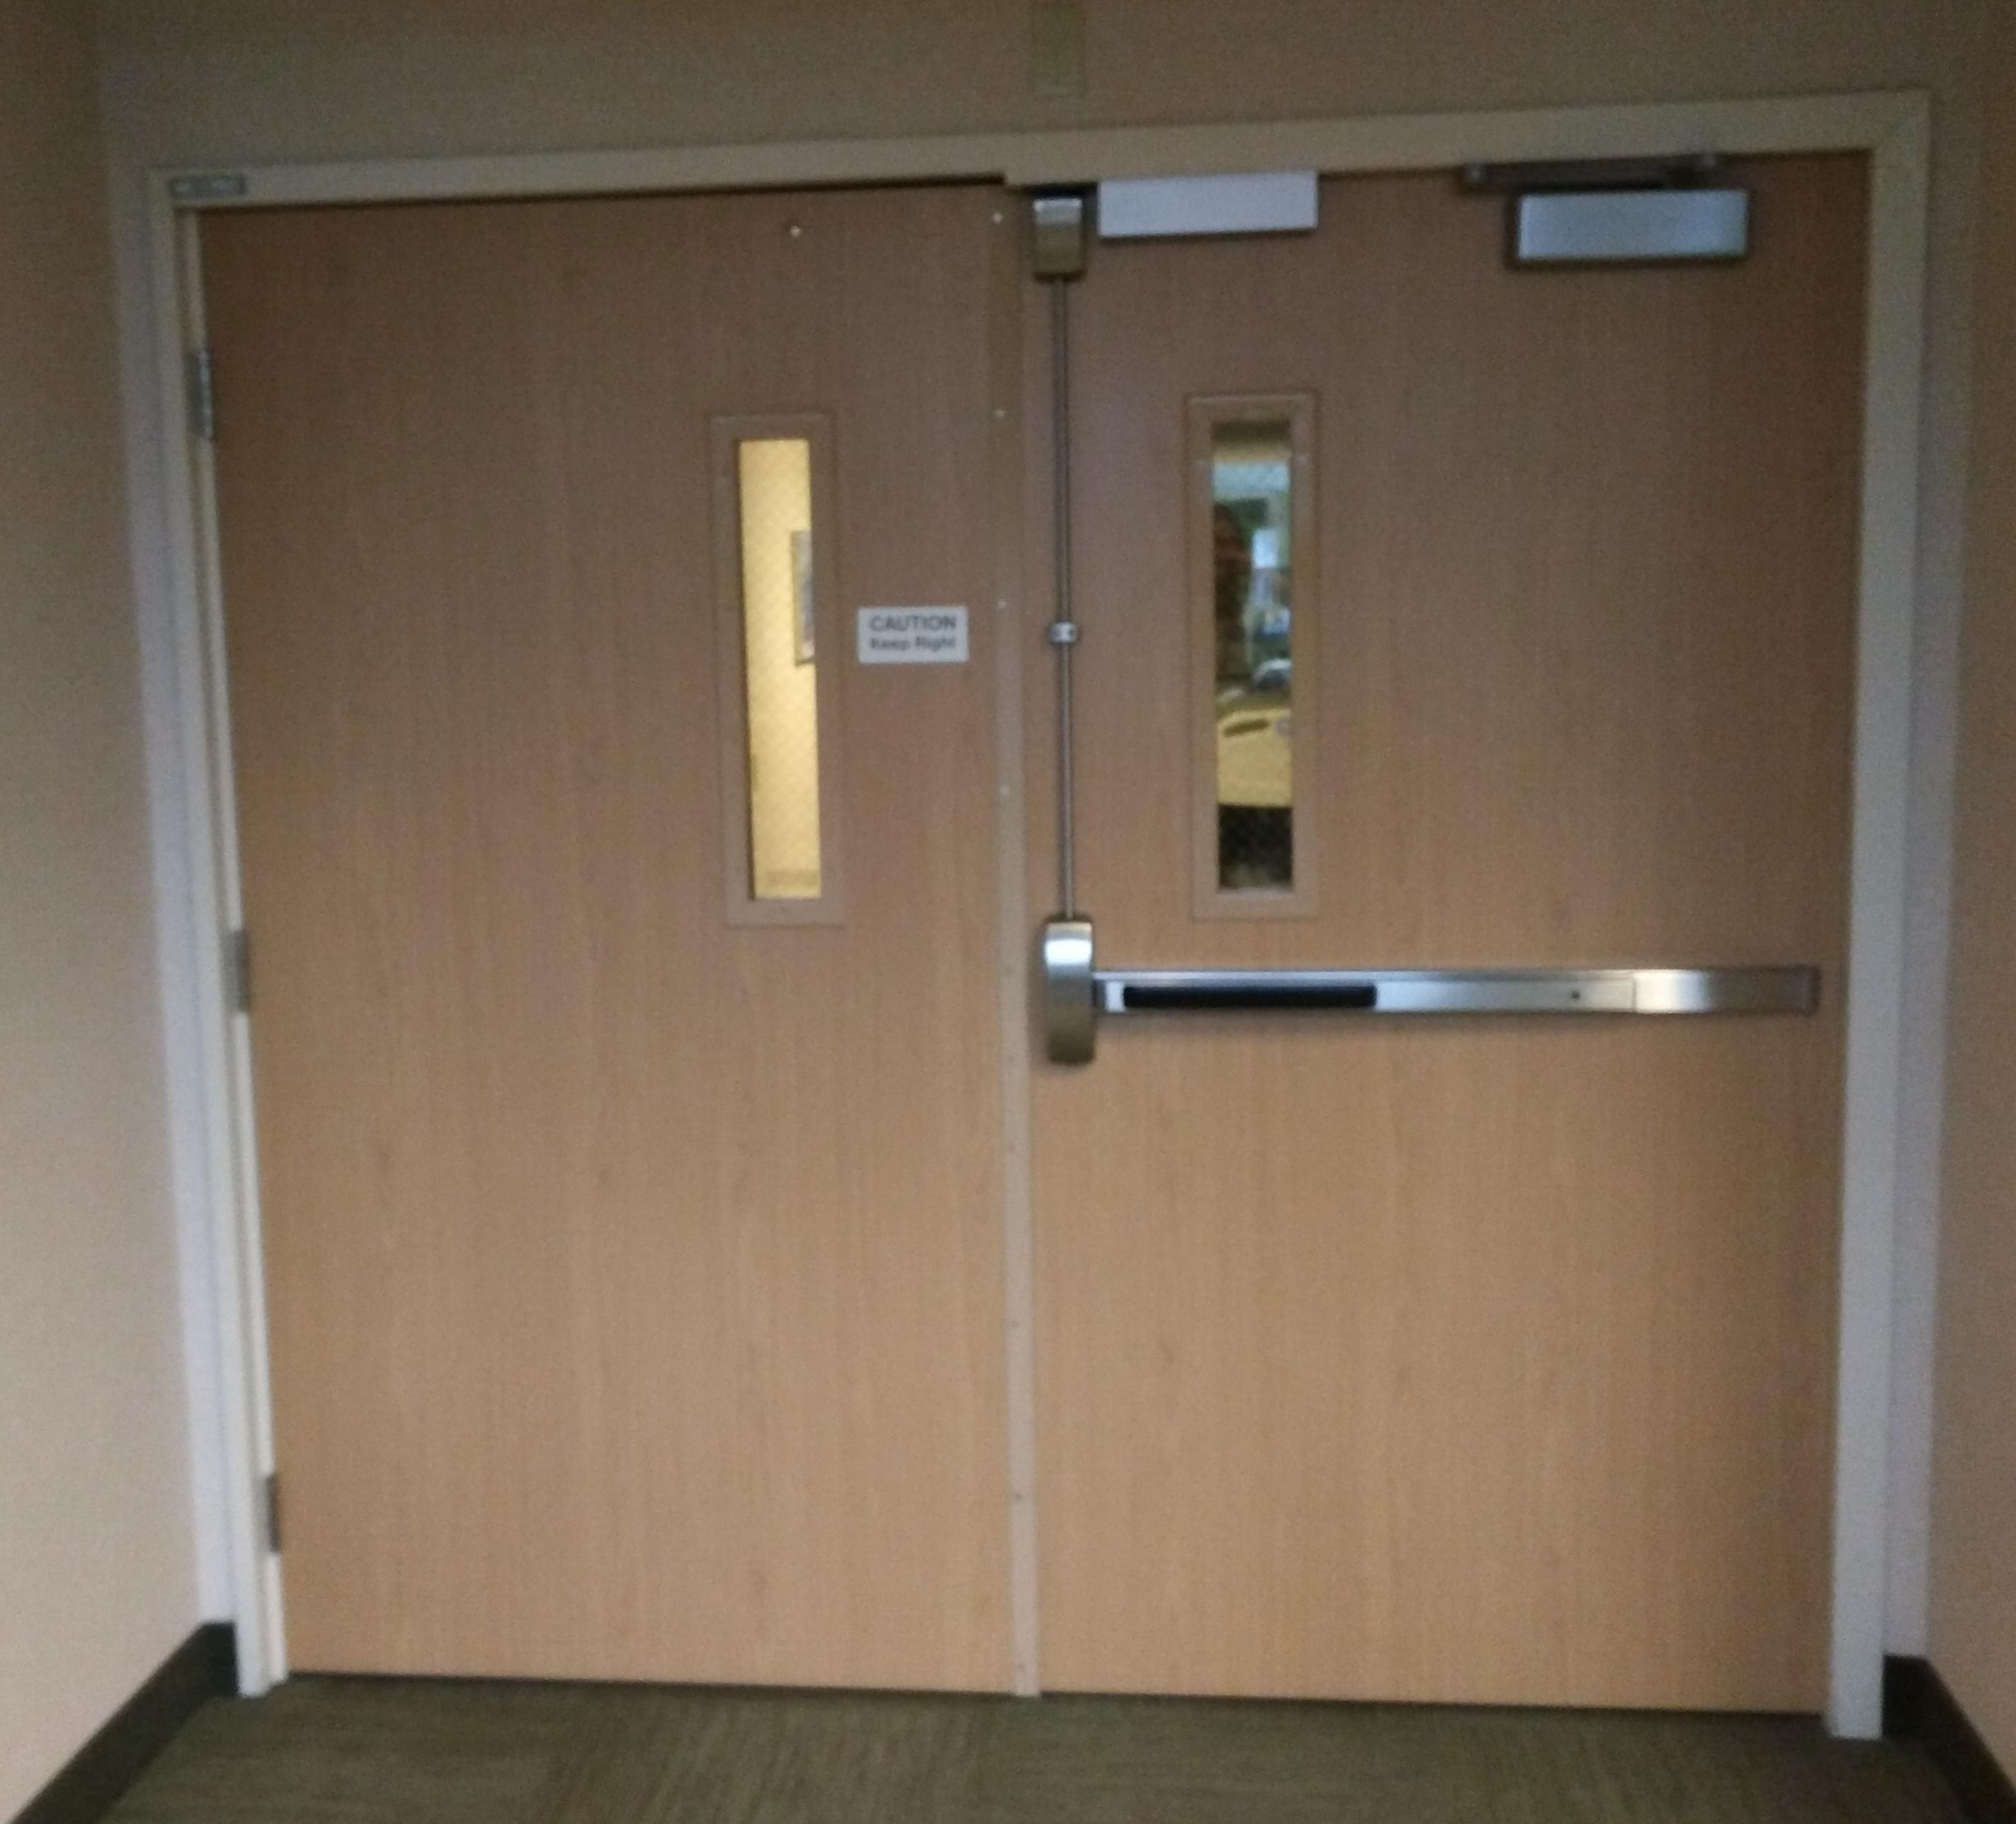door: (126, 137, 1872, 1727)
